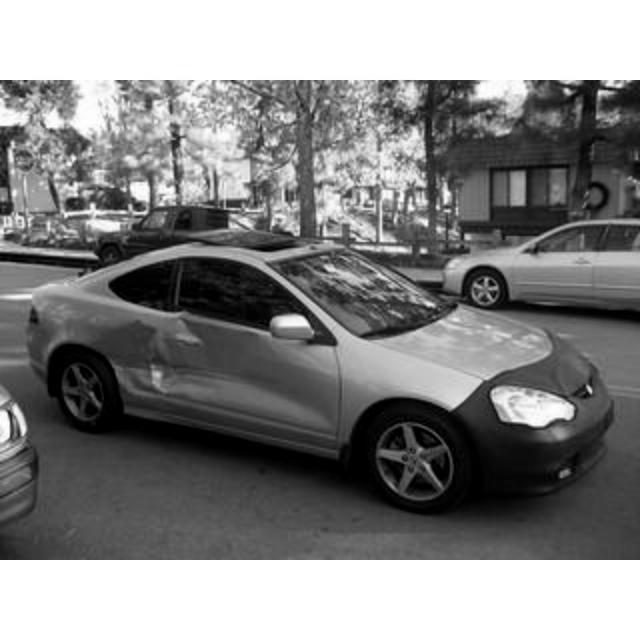doorouter-dent: (170, 312, 324, 442)
quaterpanel-dent: (28, 282, 166, 402)
